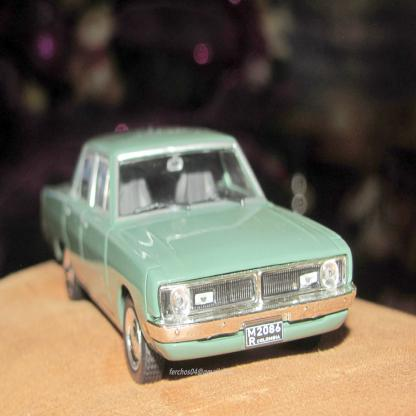Car: (48, 123, 351, 380)
